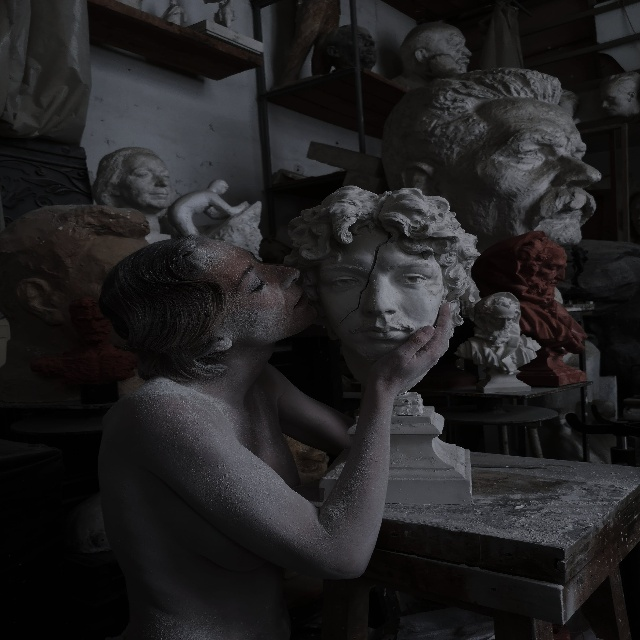Sin_guantes: (368, 302, 454, 398)
